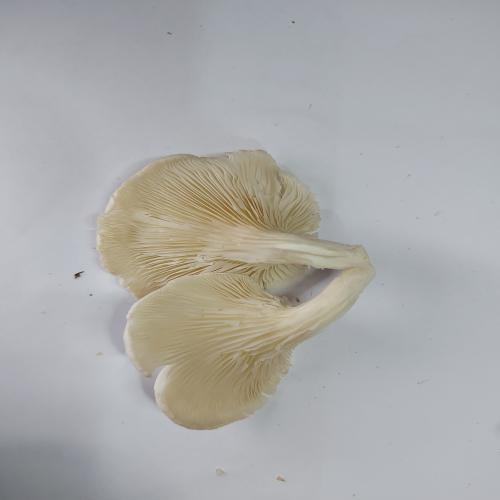Oyster Mushroom: (95, 148, 376, 430)
